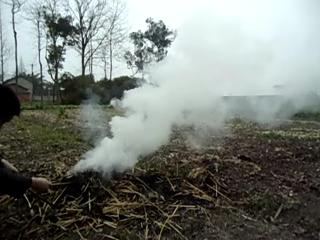yanwu: (78, 15, 270, 172)
